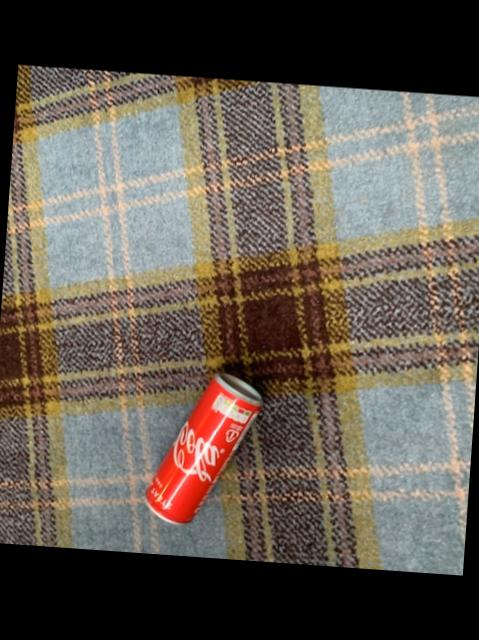metal: (145, 374, 261, 525)
